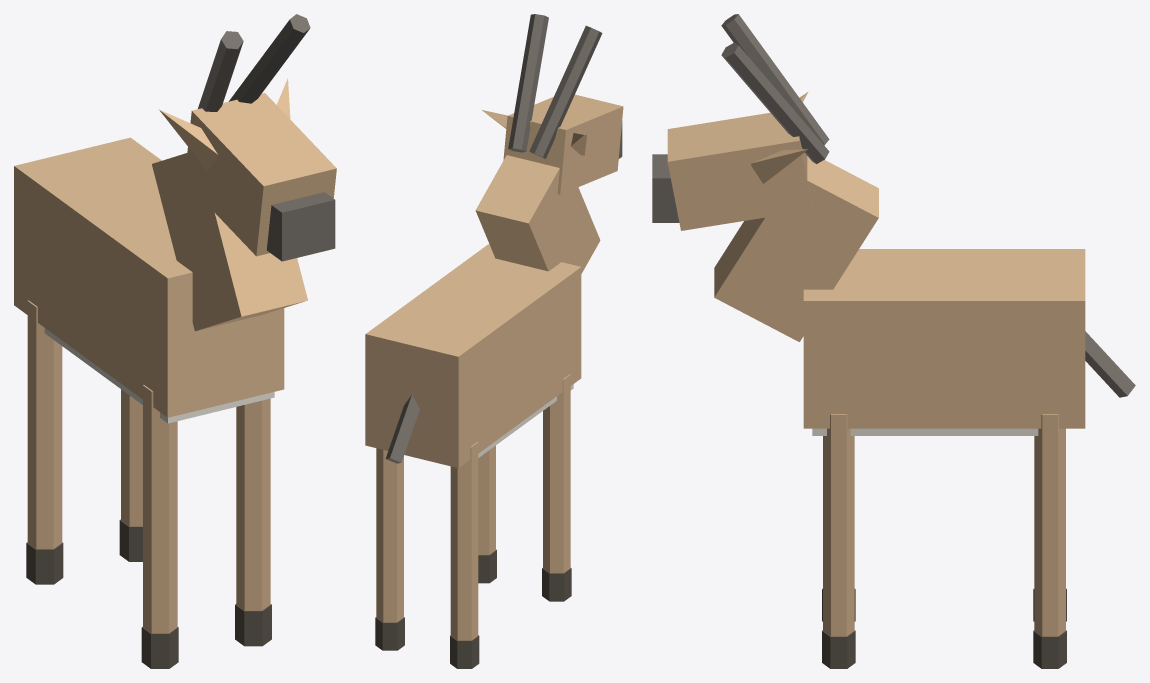
Rendered from gazelle.glb.
3 views of the same model, side by side, from view 1: azimuth 30°, elevation 25°; view 2: azimuth 150°, elevation 25°; view 3: azimuth 270°, elevation 25° (orthographic). The views are drawn at different scales.
Visible parts, largest first — view 1: Cube, Cube.003, Cube.002, Cylinder.004, Cylinder.002, Cylinder.006, Cube.004, Cylinder.008, Cylinder.001, Cylinder, Cylinder.005, Cylinder.003 (+4 smaller); view 2: Cube, Cube.002, Cube.003, Cylinder.004, Cylinder.002, Cylinder.008, Cylinder.001, Cylinder, Cylinder.006, Cylinder.010, Cylinder.003, Cylinder.005 (+3 smaller); view 3: Cube, Cube.002, Cube.003, Cylinder.008, Cylinder.006, Cylinder.001, Cylinder, Cube.001, Cube.004, Cylinder.010, Cylinder.007, Cylinder.009 (+1 smaller).
Part boxes in pixels (x1=…): Cube: x1=14, y1=137, x2=284, y2=417; Cube.003: x1=184, y1=93, x2=336, y2=256; Cube.002: x1=152, y1=153, x2=307, y2=331; Cylinder.004: x1=27, y1=300, x2=62, y2=549; Cylinder.002: x1=143, y1=385, x2=177, y2=633; Cylinder.006: x1=236, y1=398, x2=270, y2=610; Cube.004: x1=266, y1=192, x2=335, y2=261; Cylinder.008: x1=121, y1=389, x2=142, y2=526; Cylinder.001: x1=229, y1=14, x2=310, y2=103; Cylinder: x1=198, y1=31, x2=243, y2=111; Cylinder.005: x1=26, y1=542, x2=63, y2=584; Cylinder.003: x1=141, y1=627, x2=178, y2=668; Cube: x1=365, y1=244, x2=581, y2=467; Cube.002: x1=475, y1=155, x2=600, y2=273; Cube.003: x1=503, y1=94, x2=623, y2=194; Cylinder.004: x1=450, y1=442, x2=478, y2=640; Cylinder.002: x1=543, y1=374, x2=570, y2=573; Cylinder.008: x1=376, y1=448, x2=403, y2=622; Cylinder.001: x1=508, y1=14, x2=548, y2=152; Cylinder: x1=529, y1=25, x2=602, y2=158; Cylinder.006: x1=478, y1=445, x2=495, y2=554; Cylinder.010: x1=385, y1=395, x2=419, y2=463; Cylinder.003: x1=542, y1=568, x2=571, y2=601; Cylinder.005: x1=450, y1=635, x2=479, y2=668; Cube: x1=803, y1=249, x2=1085, y2=428; Cube.002: x1=714, y1=156, x2=878, y2=341; Cube.003: x1=667, y1=112, x2=812, y2=230; Cylinder.008: x1=1034, y1=414, x2=1065, y2=636; Cylinder.006: x1=823, y1=414, x2=854, y2=636; Cylinder.001: x1=721, y1=42, x2=829, y2=163; Cylinder: x1=721, y1=14, x2=829, y2=145; Cube.001: x1=812, y1=428, x2=1038, y2=435; Cube.004: x1=652, y1=154, x2=679, y2=222; Cylinder.010: x1=1085, y1=331, x2=1135, y2=397; Cylinder.007: x1=822, y1=630, x2=855, y2=668; Cylinder.009: x1=1033, y1=630, x2=1066, y2=668.
Bounding box in the file's own units: 0.3883 × 1.92 × 1.37.
